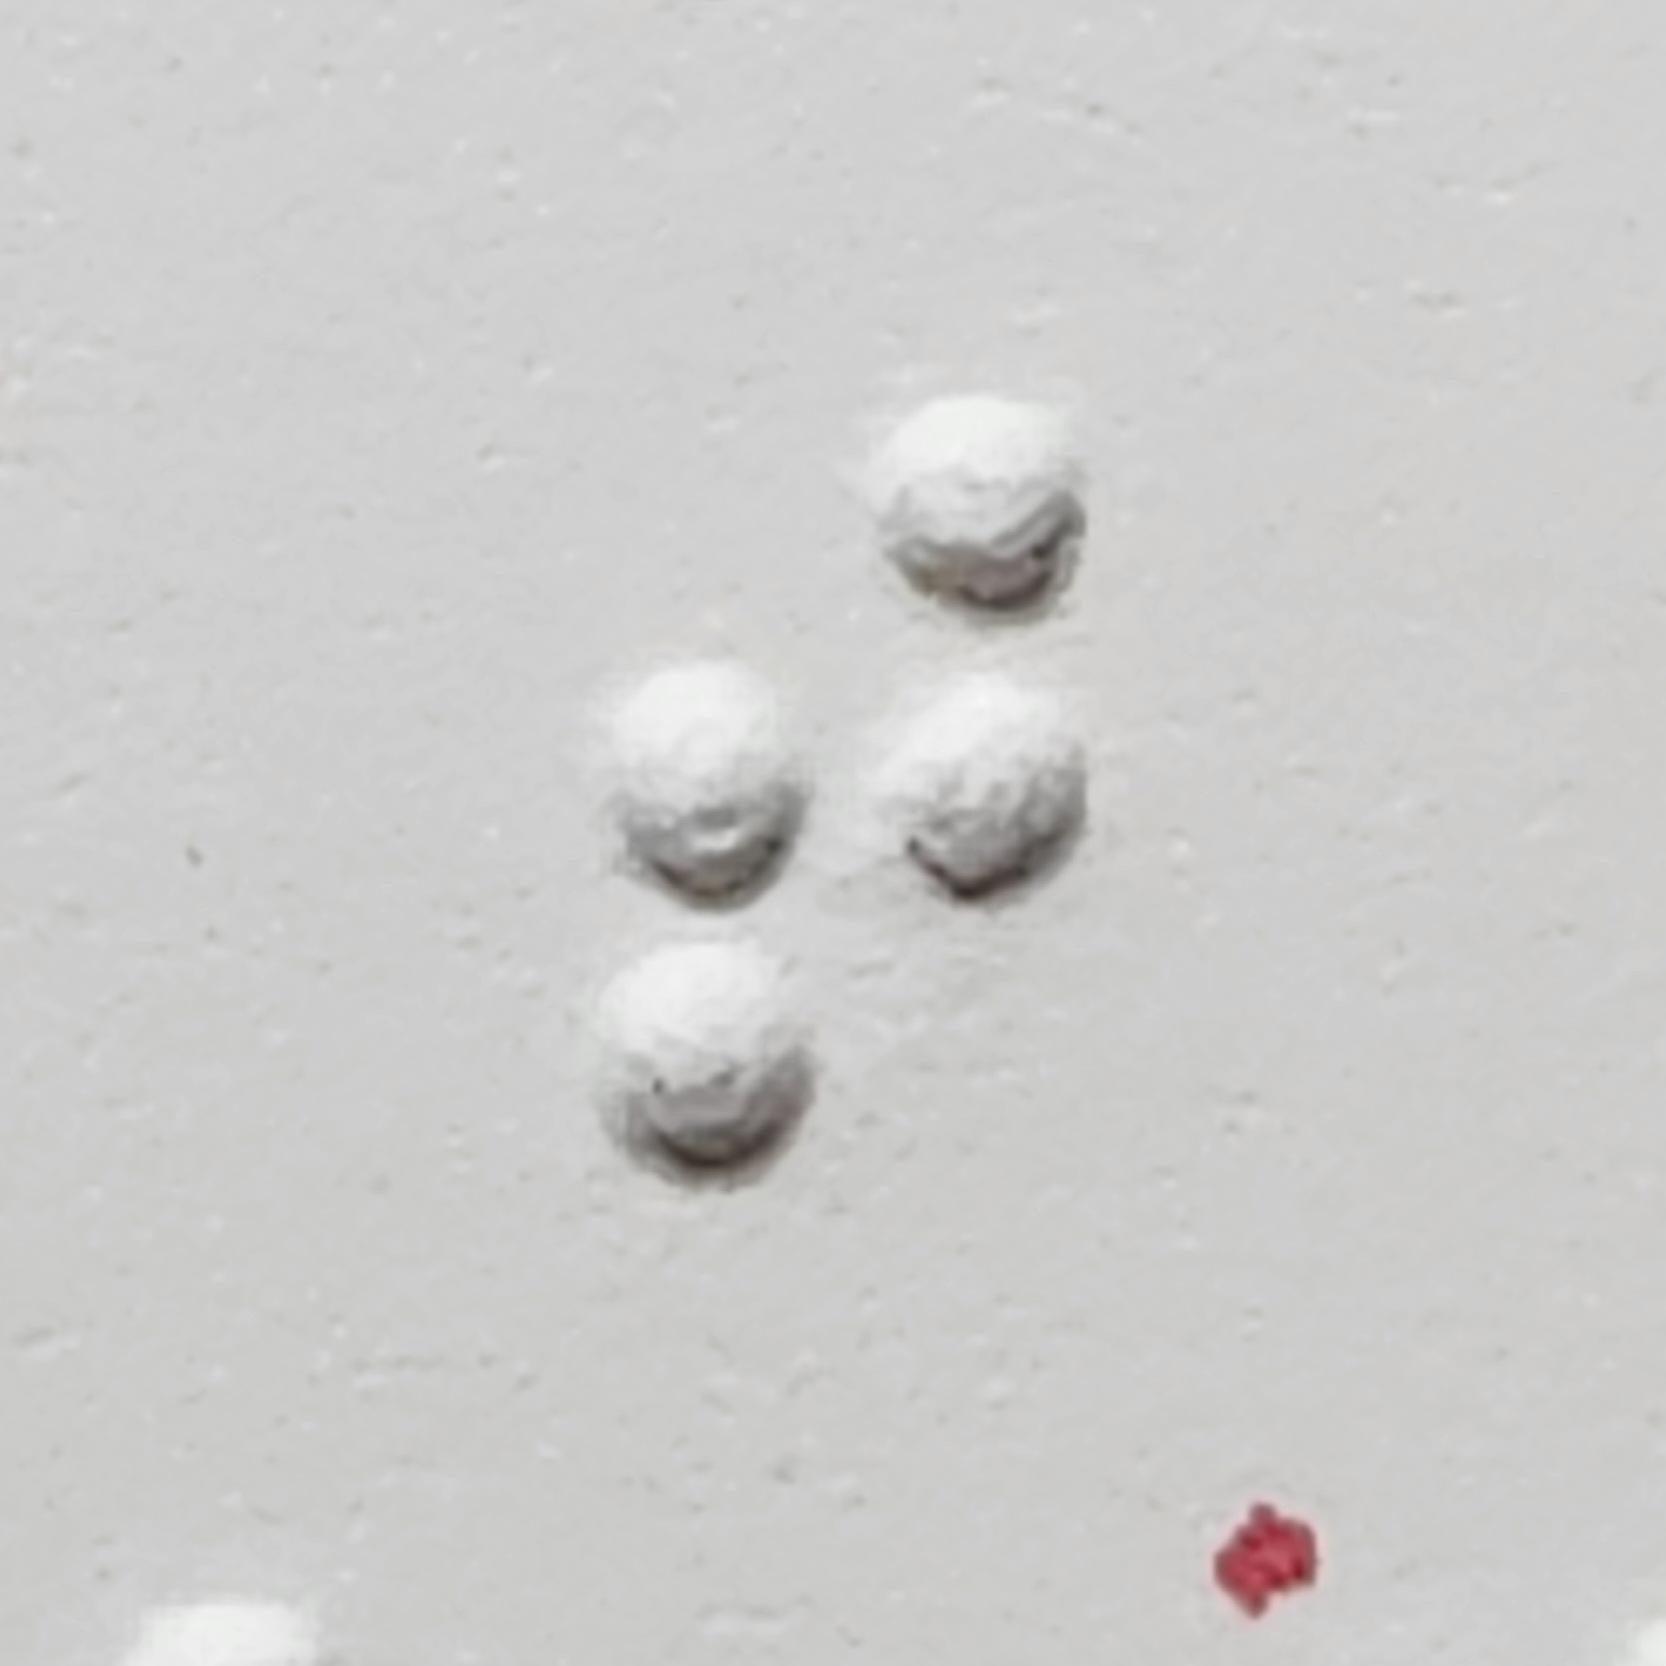letter_t: (593, 391, 1091, 1193)
